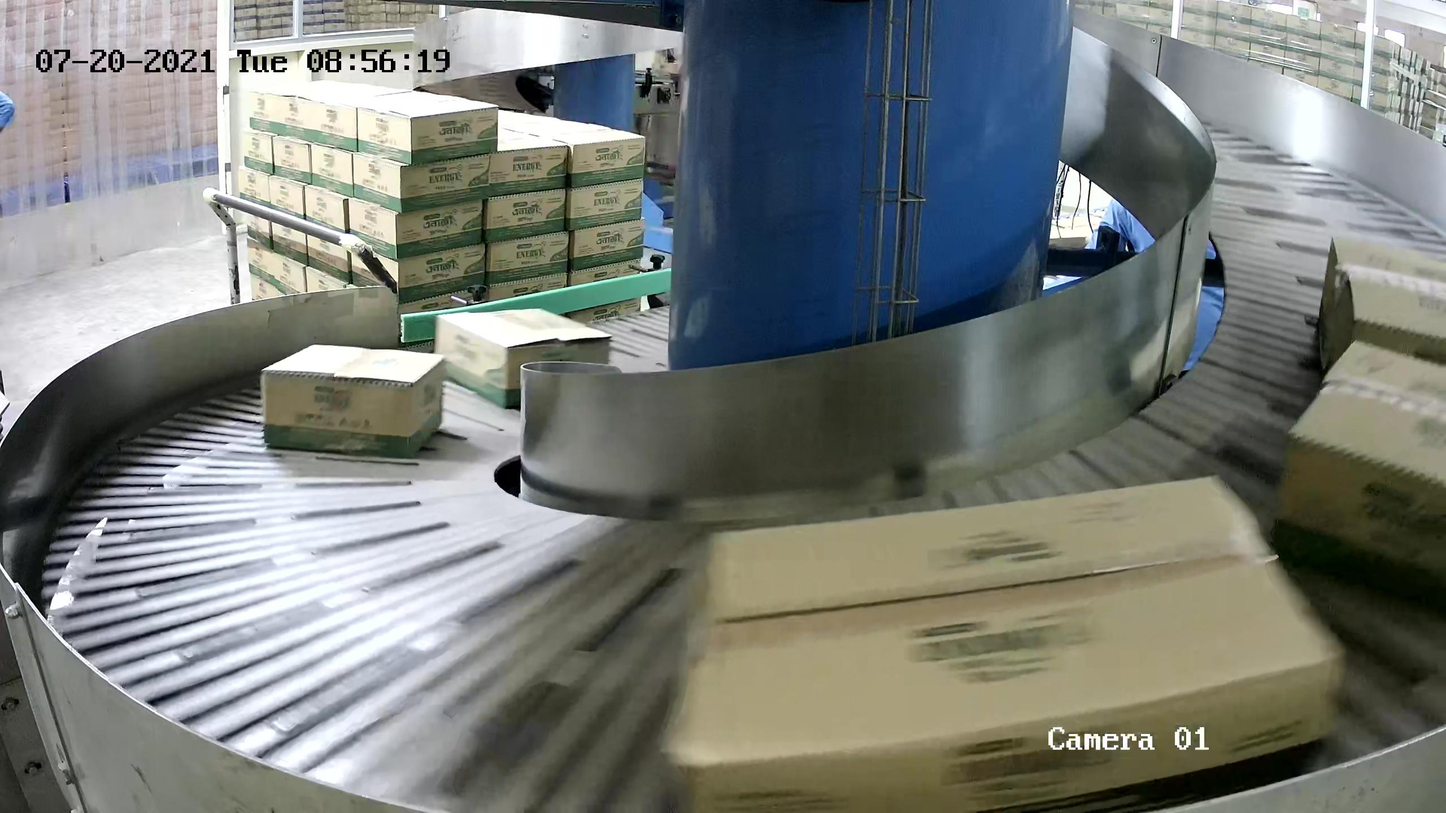Box: (649, 466, 1351, 813), (1267, 334, 1446, 615), (259, 343, 447, 460), (432, 306, 615, 411)
